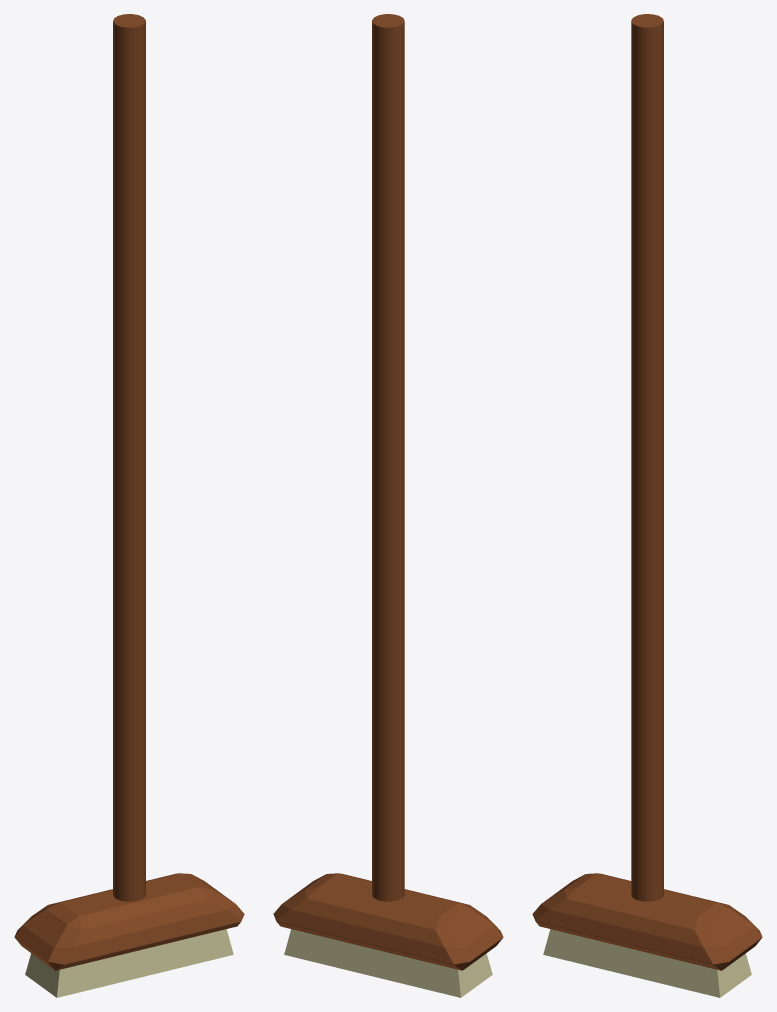
Rendered from Broom_01.fbx.
3 renders of one model, left to right at view 1: azimuth 30°, elevation 25°; view 2: azimuth 150°, elevation 25°; view 3: azimuth 330°, elevation 25°, orthographic.
Parts seen in each view (by area): view 1: Stick, Handle, Brush; view 2: Stick, Handle, Brush; view 3: Stick, Handle, Brush.
Part boxes in pixels (left/top/right/bottom): Stick: left=113, top=14, right=145, bottom=901; Handle: left=14, top=873, right=244, bottom=970; Brush: left=25, top=929, right=233, bottom=997; Stick: left=372, top=14, right=404, bottom=901; Handle: left=273, top=873, right=503, bottom=970; Brush: left=284, top=929, right=492, bottom=997; Stick: left=631, top=14, right=663, bottom=901; Handle: left=532, top=873, right=762, bottom=970; Brush: left=543, top=929, right=751, bottom=997.
Bounding box in the file's own units: 0.2209 × 1.01 × 0.0904.
